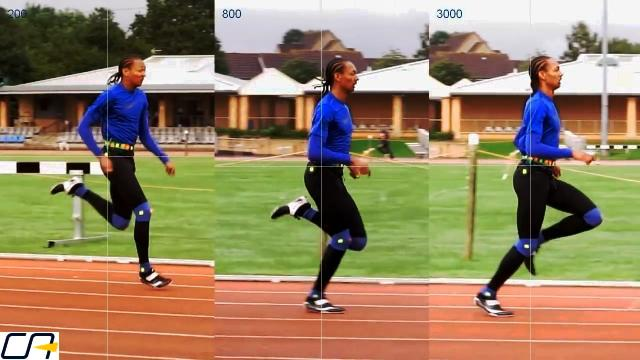berlari: (474, 48, 604, 322), (45, 46, 178, 296), (260, 51, 382, 319)
